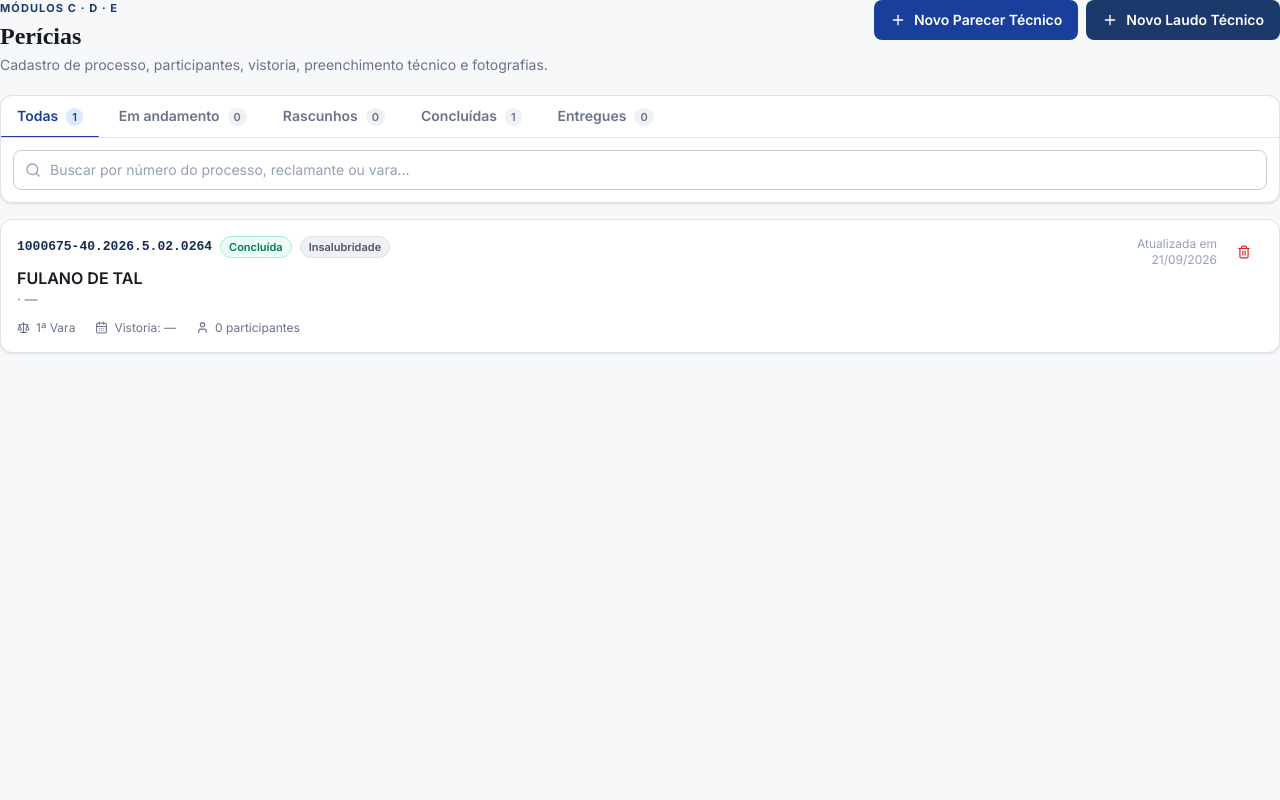
Test case: Perícias — exclusão › só diz "excluída" depois que o servidor confirma
Click the button named "Excluir perícia": {"x": 1244, "y": 252} top-left (1225, 236), bottom-right (1263, 268)
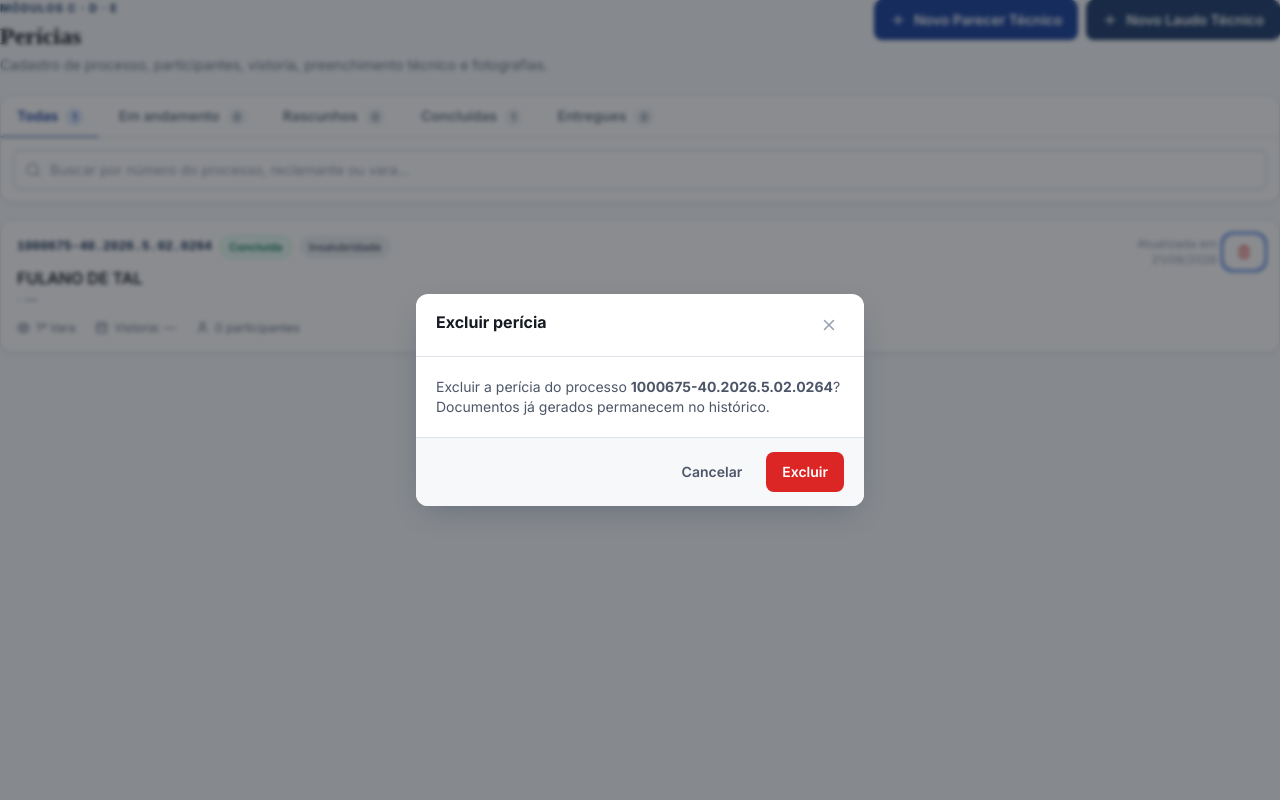
Click the button "Excluir": {"x": 805, "y": 472} top-left (766, 452), bottom-right (844, 492)
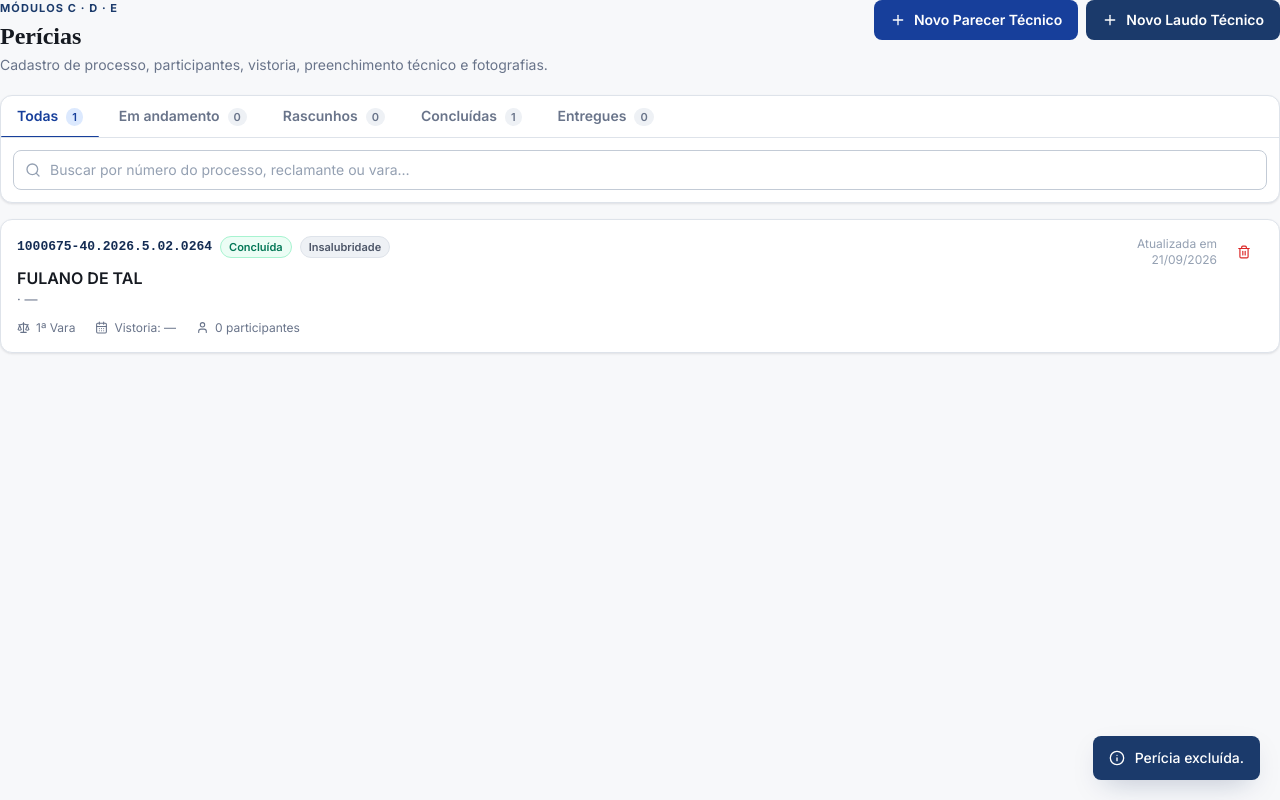
Expected: the text "Perícia excluída." is shown, top-left (1135, 748), bottom-right (1244, 768)
